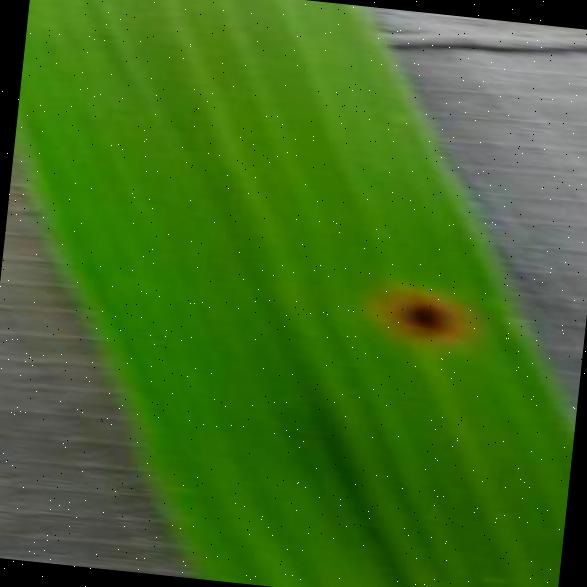Brown_Spot: (351, 262, 481, 362)
